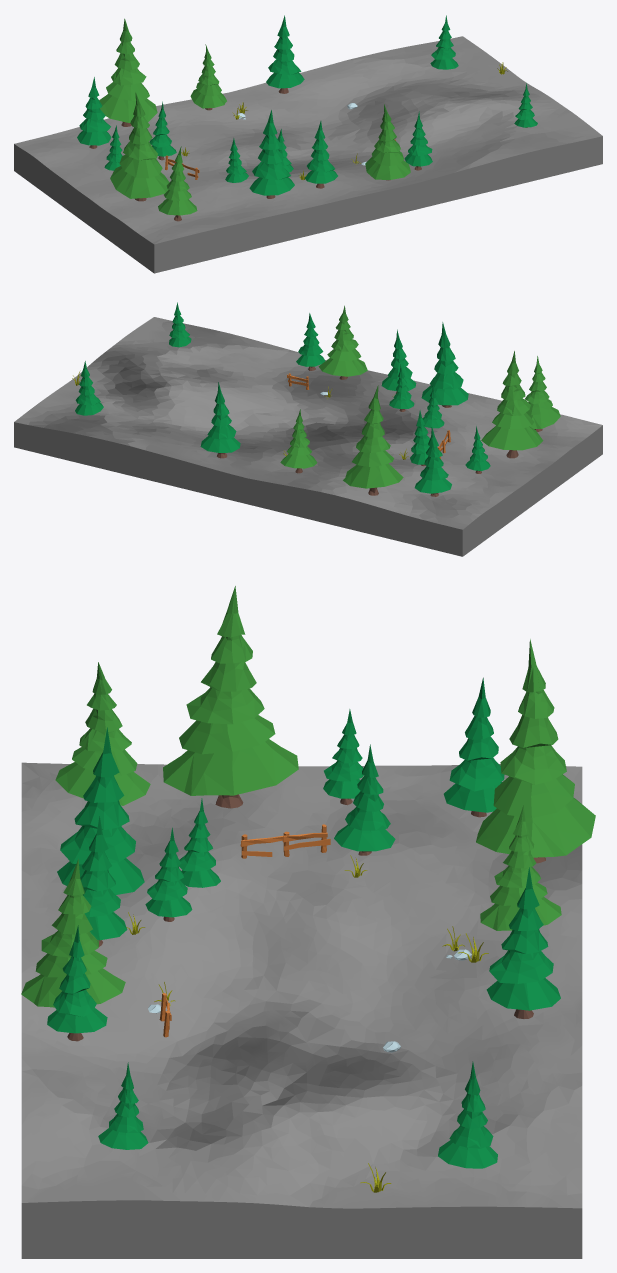
The model's file is unityexport.obj.
The picture shows the model from 3 angles, top to bottom: view 1: azimuth 30°, elevation 25°; view 2: azimuth 150°, elevation 25°; view 3: azimuth 270°, elevation 25°; orthographic projection. The views are drawn at different scales.
Parts seen in each view (by area): view 1: LowPoly - Terrain, LowPoly - FirTree A (4), LowPoly - FirTree A (1), LowPoly - FirTree B (8), LowPoly - FirTree A (5), LowPoly - FirTree B (1), LowPoly - FirTree A, LowPoly - FirTree B, LowPoly - FirTree A (3), LowPoly - FirTree B (9), LowPoly - FirTree B (5), LowPoly - FirTree B (2) (+4 smaller); view 2: LowPoly - Terrain, LowPoly - FirTree A (4), LowPoly - FirTree A (1), LowPoly - FirTree B (8), LowPoly - FirTree A (5), LowPoly - FirTree B (1), LowPoly - FirTree A, LowPoly - FirTree B, LowPoly - FirTree A (3), LowPoly - FirTree B (9), LowPoly - FirTree B (5), LowPoly - FirTree B (2) (+5 smaller); view 3: LowPoly - Terrain, LowPoly - FirTree A (4), LowPoly - FirTree A (1), LowPoly - FirTree B (8), LowPoly - FirTree A (5), LowPoly - FirTree B (1), LowPoly - FirTree A, LowPoly - FirTree B, LowPoly - FirTree A (3), LowPoly - FirTree B (5), LowPoly - FirTree B (11), LowPoly - FirTree B (9) (+6 smaller).
Part boxes in pixels (bbox=[...]): LowPoly - Terrain: bbox=[14, 36, 602, 273]; LowPoly - FirTree A (4): bbox=[110, 92, 169, 201]; LowPoly - FirTree A (1): bbox=[99, 18, 157, 126]; LowPoly - FirTree B (8): bbox=[249, 110, 294, 198]; LowPoly - FirTree A (5): bbox=[365, 104, 410, 180]; LowPoly - FirTree B (1): bbox=[266, 15, 304, 93]; LowPoly - FirTree A: bbox=[158, 146, 197, 221]; LowPoly - FirTree B: bbox=[77, 77, 111, 148]; LowPoly - FirTree A (3): bbox=[190, 44, 226, 110]; LowPoly - FirTree B (9): bbox=[304, 121, 337, 188]; LowPoly - FirTree B (5): bbox=[404, 111, 432, 170]; LowPoly - FirTree B (2): bbox=[430, 15, 458, 69]; LowPoly - Terrain: bbox=[14, 317, 602, 556]; LowPoly - FirTree A (4): bbox=[481, 351, 543, 458]; LowPoly - FirTree A (1): bbox=[343, 385, 403, 495]; LowPoly - FirTree B (8): bbox=[421, 322, 468, 407]; LowPoly - FirTree A (5): bbox=[318, 305, 367, 379]; LowPoly - FirTree B (1): bbox=[200, 382, 240, 458]; LowPoly - FirTree A: bbox=[525, 356, 560, 431]; LowPoly - FirTree B: bbox=[414, 427, 451, 496]; LowPoly - FirTree A (3): bbox=[280, 409, 317, 473]; LowPoly - FirTree B (9): bbox=[381, 329, 416, 393]; LowPoly - FirTree B (5): bbox=[296, 313, 325, 370]; LowPoly - FirTree B (2): bbox=[75, 361, 103, 415]; LowPoly - Terrain: bbox=[21, 762, 582, 1258]; LowPoly - FirTree A (4): bbox=[163, 586, 298, 808]; LowPoly - FirTree A (1): bbox=[476, 639, 595, 863]; LowPoly - FirTree B (8): bbox=[57, 727, 144, 894]; LowPoly - FirTree A (5): bbox=[21, 859, 125, 1007]; LowPoly - FirTree B (1): bbox=[486, 867, 560, 1018]; LowPoly - FirTree A: bbox=[55, 662, 150, 805]; LowPoly - FirTree B: bbox=[443, 677, 504, 817]; LowPoly - FirTree A (3): bbox=[480, 805, 561, 930]; LowPoly - FirTree B (5): bbox=[47, 925, 107, 1041]; LowPoly - FirTree B (11): bbox=[334, 744, 395, 855]; LowPoly - FirTree B (9): bbox=[80, 816, 127, 946].
Size of the model in its own units: 55.44 by 16.41 by 30.75.
